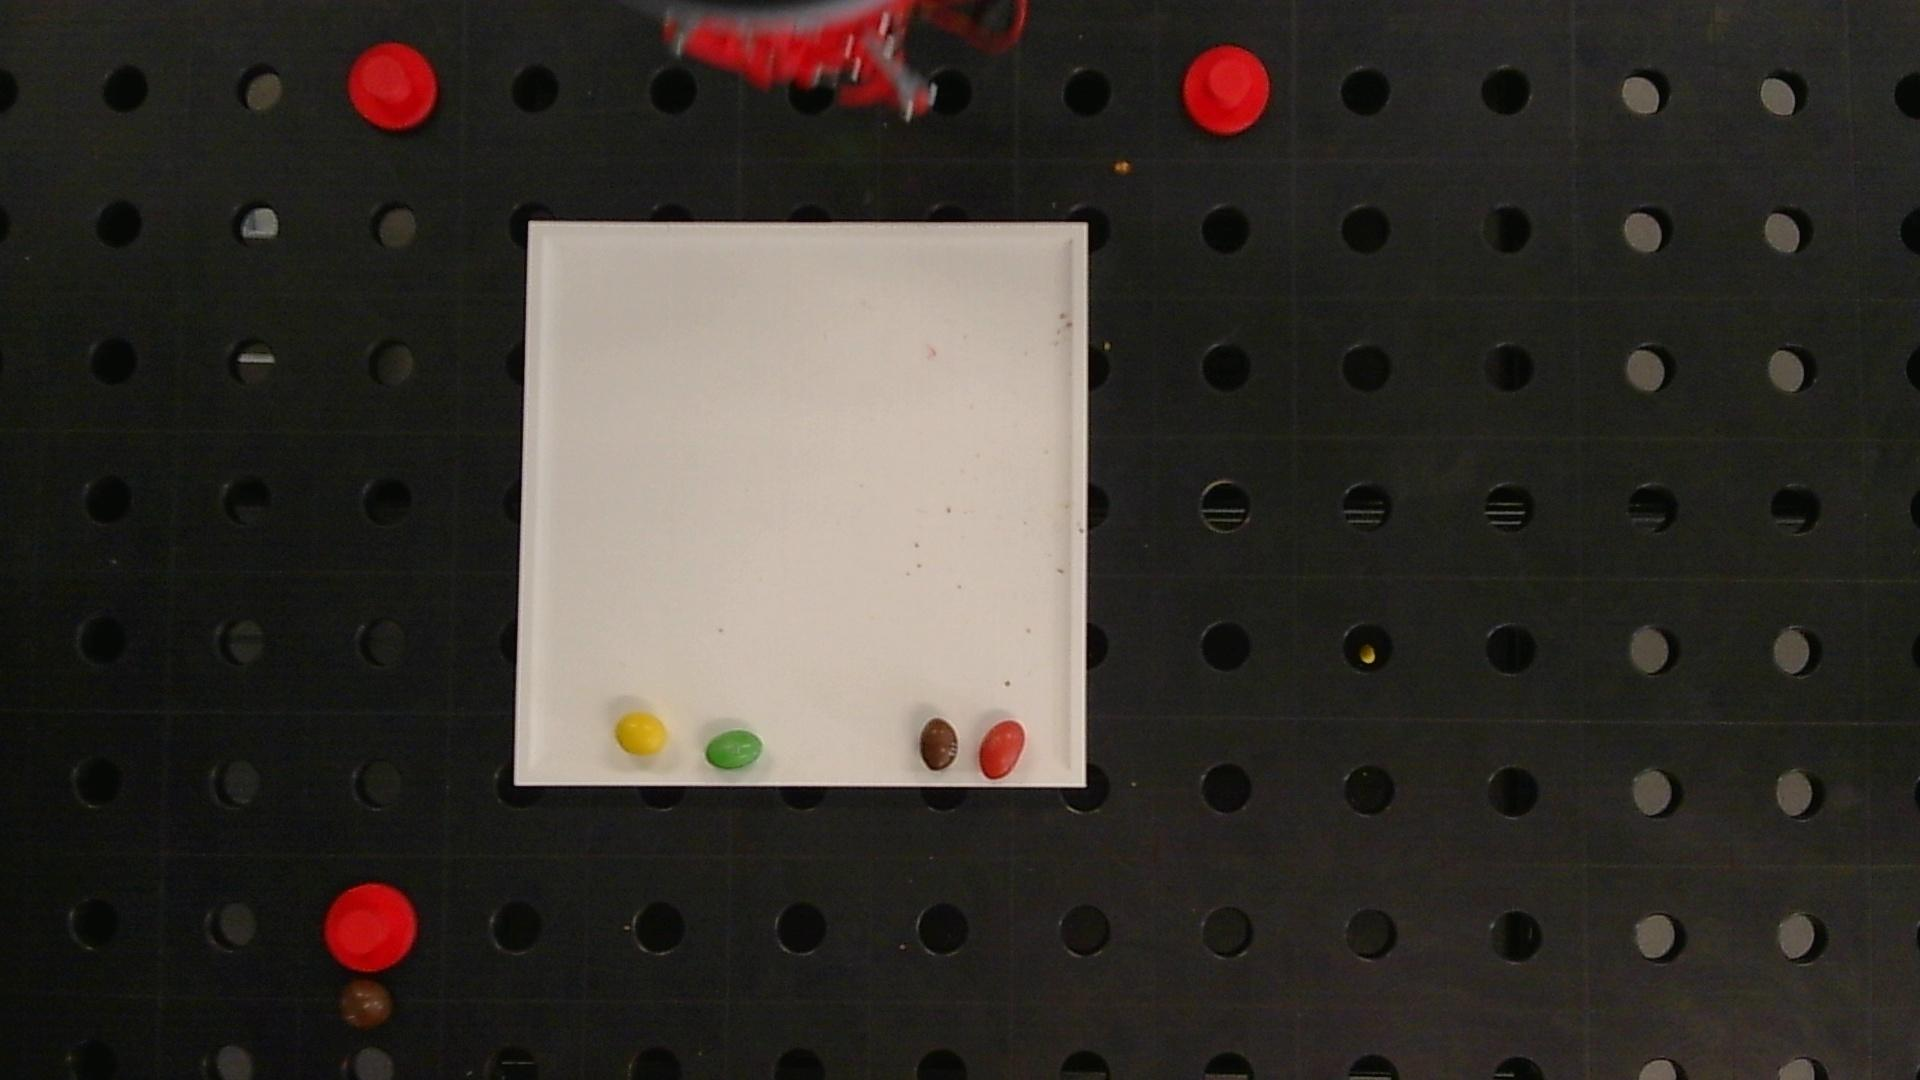brown: (919, 717, 960, 771)
green: (704, 731, 764, 769)
red: (978, 720, 1025, 779)
yellow: (615, 712, 667, 756)
